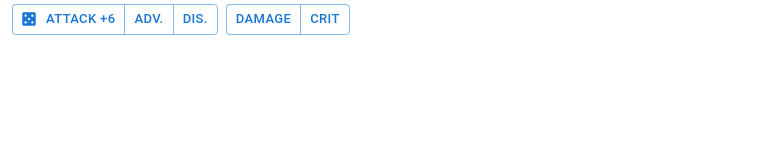
it: AttackRoller › rolls each kind of damage, with its dice and the bonus
The image size is (758, 160).
What coordinates should you click on to do the following:
click the button with aria-label "Roll damage for Club"
I would click on:
 (264, 19)
Its box is [226,4,301,35].
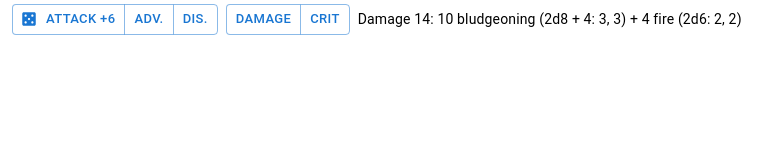
Expected: the message reads "Damage 14: 10 bludgeoning (2d8 + 4: 3, 3) + 4 fire (2d6: 2, 2)", [358,11,742,27]
